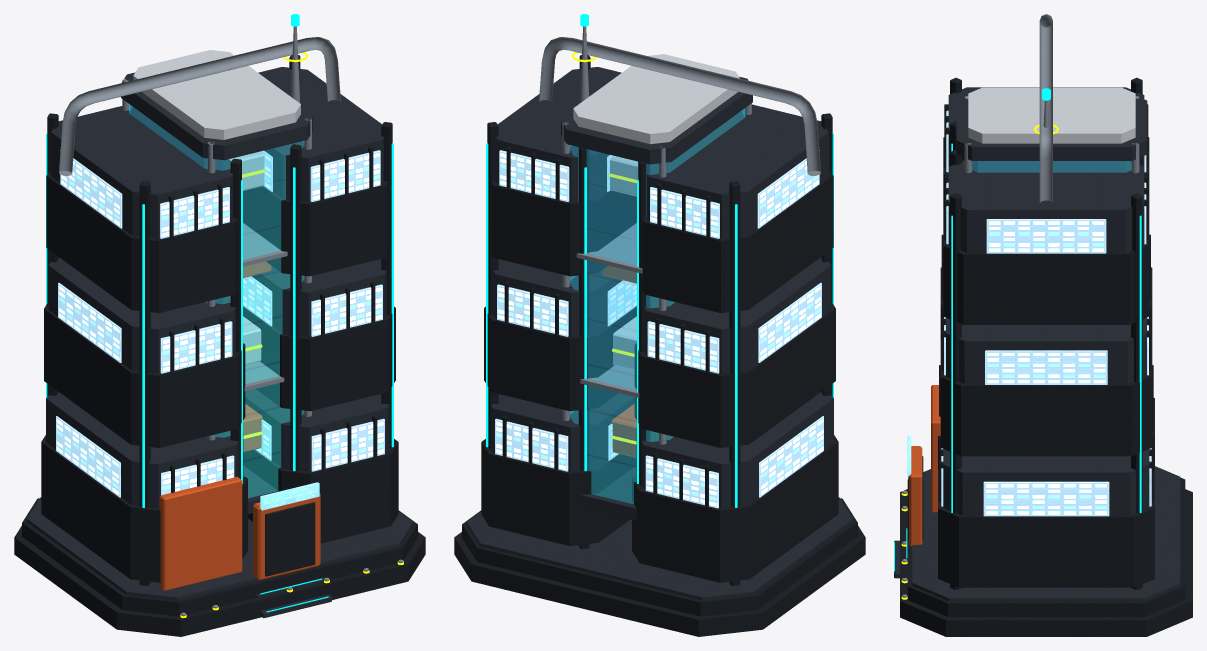
File: bldg_16_r1_03.glb
The picture shows the model from 3 angles, left to right: view 1: azimuth 30°, elevation 25°; view 2: azimuth 150°, elevation 25°; view 3: azimuth 270°, elevation 25°; orthographic projection. The views are drawn at different scales.
Visible parts, largest first — view 1: Bldg16_C03_gunmetal, Bldg16_C03_carbon_slate, Bldg16_C03_window_lit, Bldg16_C03_glass_cyan, Bldg16_C03_accent_orange, Bldg16_C03_aero_white, Bldg16_C03_steel_machined, Bldg16_C03_led_cyan, Bldg16_C03_marquee; view 2: Bldg16_C03_gunmetal, Bldg16_C03_carbon_slate, Bldg16_C03_window_lit, Bldg16_C03_glass_cyan, Bldg16_C03_aero_white, Bldg16_C03_steel_machined, Bldg16_C03_led_cyan, Bldg16_C03_accent_orange; view 3: Bldg16_C03_gunmetal, Bldg16_C03_carbon_slate, Bldg16_C03_window_lit, Bldg16_C03_aero_white, Bldg16_C03_steel_machined, Bldg16_C03_accent_orange, Bldg16_C03_glass_cyan, Bldg16_C03_led_cyan.
Part boxes in pixels (x1=…): Bldg16_C03_gunmetal: x1=14, y1=55, x2=425, y2=636; Bldg16_C03_carbon_slate: x1=26, y1=67, x2=413, y2=618; Bldg16_C03_window_lit: x1=56, y1=150, x2=384, y2=497; Bldg16_C03_glass_cyan: x1=129, y1=104, x2=304, y2=497; Bldg16_C03_accent_orange: x1=159, y1=261, x2=320, y2=590; Bldg16_C03_aero_white: x1=133, y1=50, x2=300, y2=364; Bldg16_C03_steel_machined: x1=59, y1=26, x2=403, y2=616; Bldg16_C03_led_cyan: x1=46, y1=14, x2=393, y2=612; Bldg16_C03_marquee: x1=260, y1=482, x2=319, y2=510; Bldg16_C03_gunmetal: x1=454, y1=55, x2=865, y2=636; Bldg16_C03_carbon_slate: x1=466, y1=67, x2=853, y2=600; Bldg16_C03_window_lit: x1=495, y1=150, x2=823, y2=508; Bldg16_C03_glass_cyan: x1=570, y1=108, x2=745, y2=503; Bldg16_C03_aero_white: x1=573, y1=54, x2=739, y2=369; Bldg16_C03_steel_machined: x1=539, y1=26, x2=820, y2=444; Bldg16_C03_led_cyan: x1=486, y1=14, x2=833, y2=507; Bldg16_C03_accent_orange: x1=602, y1=265, x2=636, y2=457; Bldg16_C03_gunmetal: x1=900, y1=77, x2=1192, y2=636; Bldg16_C03_carbon_slate: x1=894, y1=87, x2=1180, y2=601; Bldg16_C03_window_lit: x1=941, y1=110, x2=1151, y2=516; Bldg16_C03_aero_white: x1=968, y1=87, x2=1135, y2=143; Bldg16_C03_steel_machined: x1=902, y1=14, x2=1139, y2=597; Bldg16_C03_accent_orange: x1=909, y1=385, x2=940, y2=546; Bldg16_C03_glass_cyan: x1=972, y1=161, x2=1131, y2=172; Bldg16_C03_led_cyan: x1=894, y1=88, x2=1141, y2=571.
Bounding box in the file's own units: 12.74 × 20.12 × 10.71.
10 materials, 10 textured.
